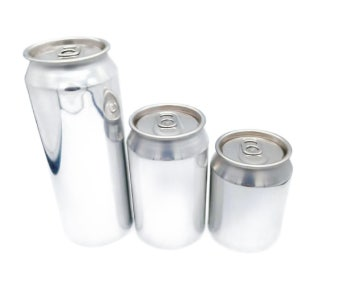paper: (16, 36, 136, 247), (125, 101, 209, 249), (208, 130, 294, 260)
